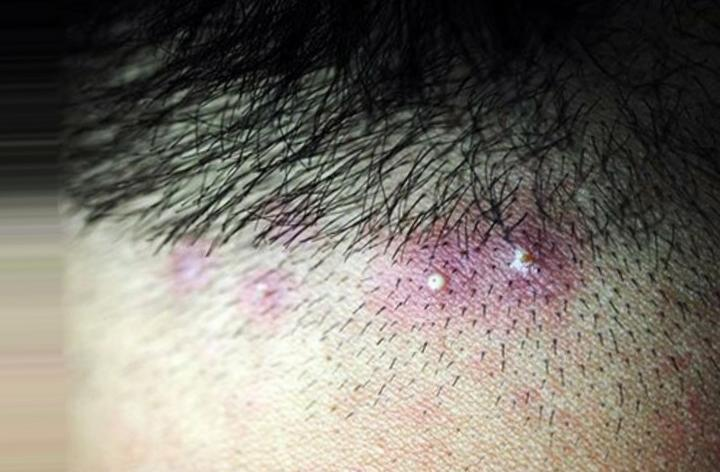Folliculitis: (398, 228, 558, 320), (233, 277, 305, 316)
